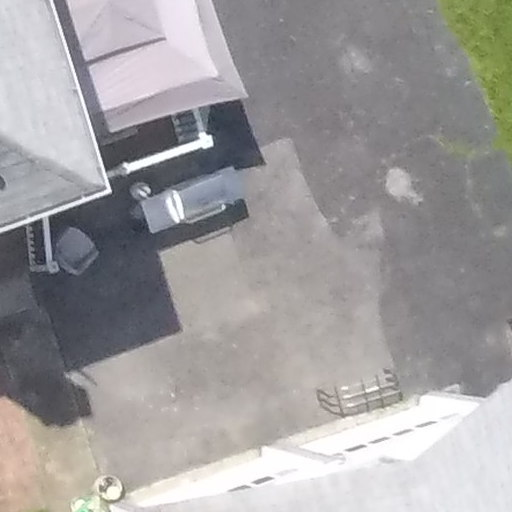barbecue: (132, 155, 247, 244)
container: (90, 465, 123, 506)
